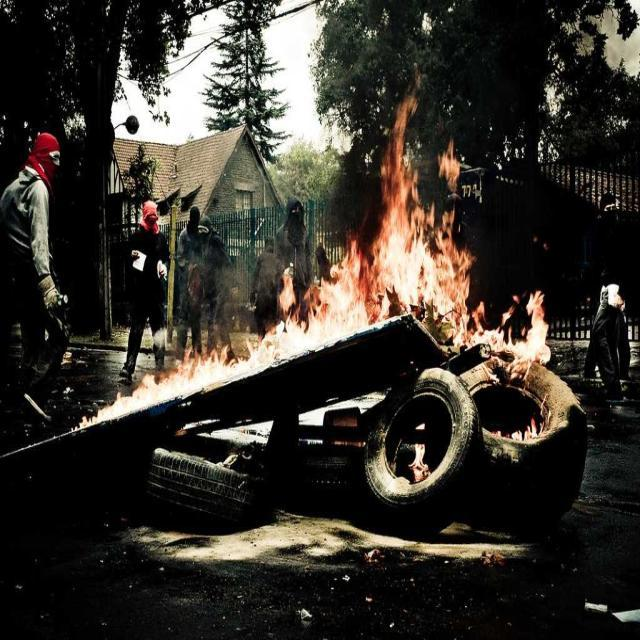Fire: (392, 120, 458, 306), (304, 258, 382, 332), (504, 280, 547, 362)
